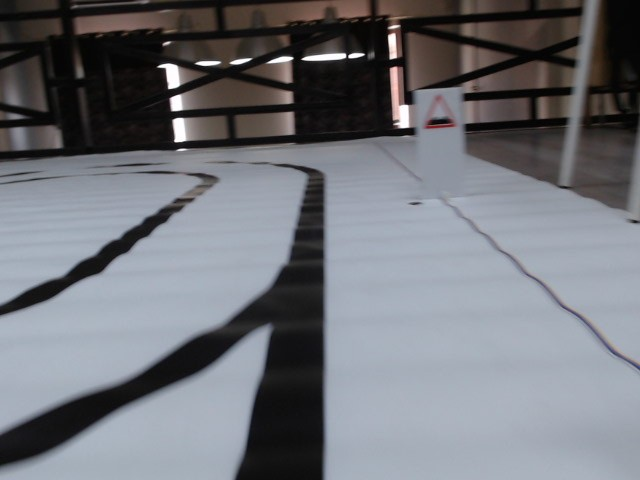Nerov: (422, 95, 457, 129)
